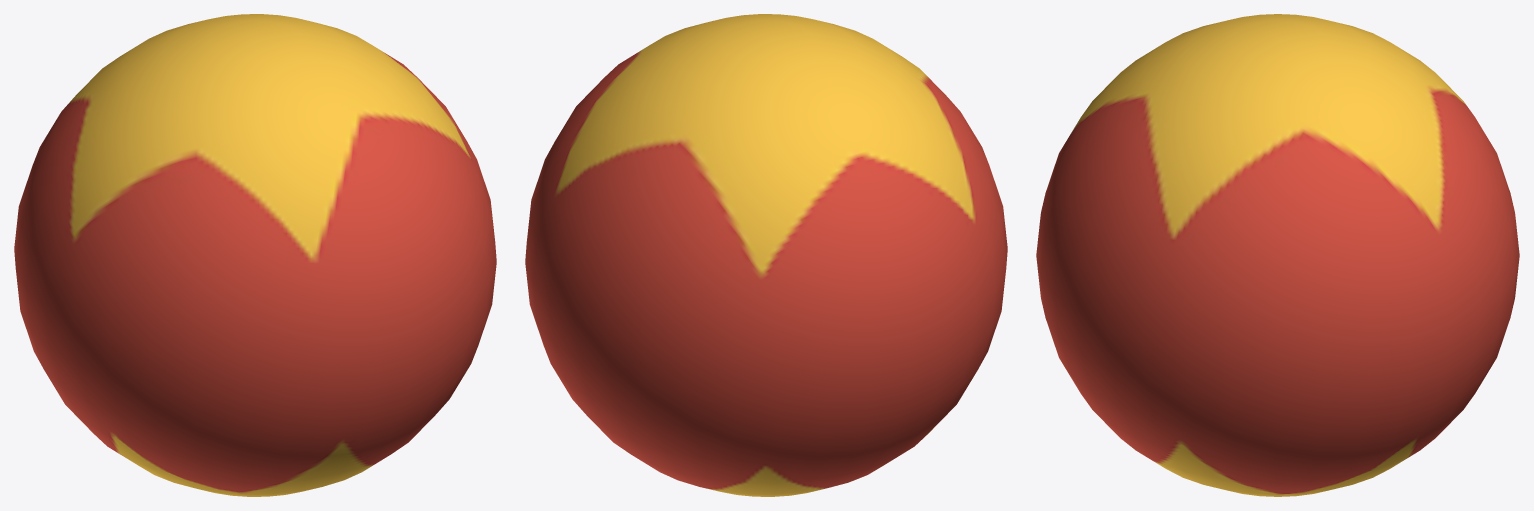
The model's file is Ball_Actor.gltf.
3 renders of one model, left to right at view 1: azimuth 30°, elevation 25°; view 2: azimuth 150°, elevation 25°; view 3: azimuth 270°, elevation 25°, orthographic.
Visible parts, largest first — view 1: Sphere; view 2: Sphere; view 3: Sphere.
Part boxes in pixels (<box>): Sphere: <box>14,14,496,496</box>; Sphere: <box>525,14,1007,496</box>; Sphere: <box>1036,14,1519,496</box>.
Bounding box in the file's own units: 2 × 2 × 2.
1 material, 1 textured.
